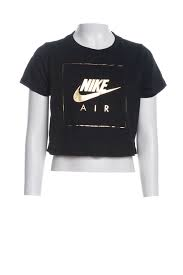nike: (66, 78, 126, 109)
